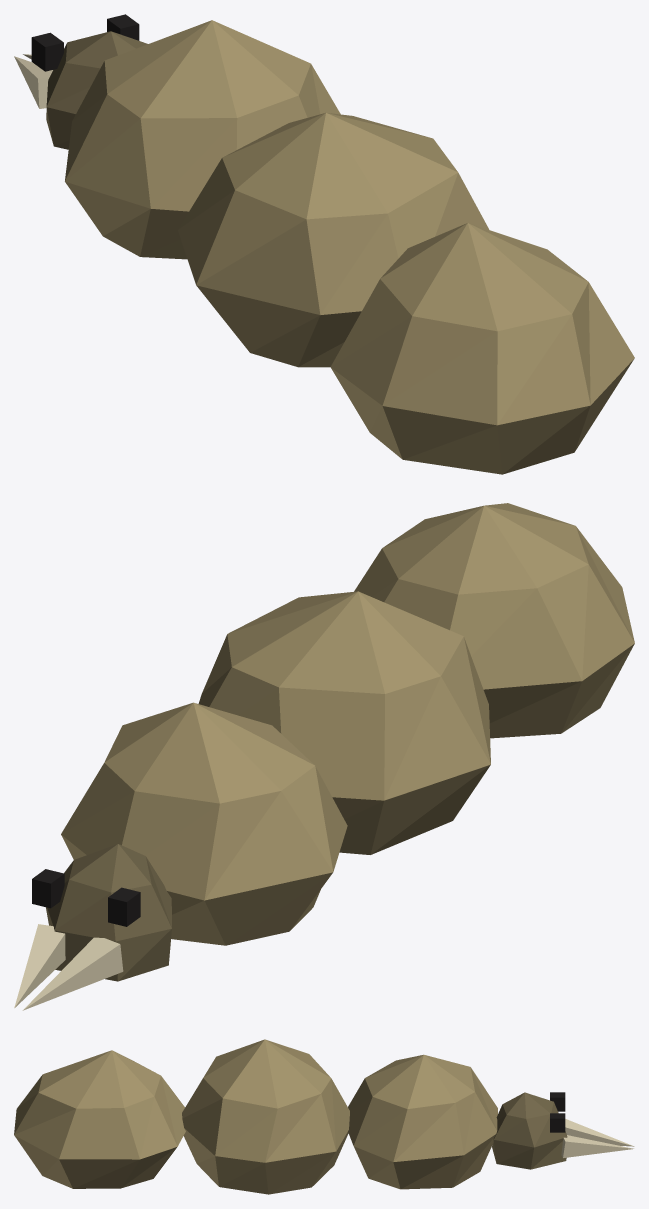
The model's file is animal_spelopede.obj.
3 views of the same model, one above another, from view 1: azimuth 30°, elevation 25°; view 2: azimuth 150°, elevation 25°; view 3: azimuth 270°, elevation 25° (orthographic). The views are drawn at different scales.
Visible parts, largest first — view 1: animal_spelopede; view 2: animal_spelopede; view 3: animal_spelopede.
Boxes of the visible parts, x1=… form: animal_spelopede: x1=14, y1=14, x2=634, y2=474; animal_spelopede: x1=14, y1=503, x2=634, y2=1010; animal_spelopede: x1=14, y1=1039, x2=634, y2=1194.
Bounding box in the file's own units: 0.321 × 0.2562 × 1.05.
